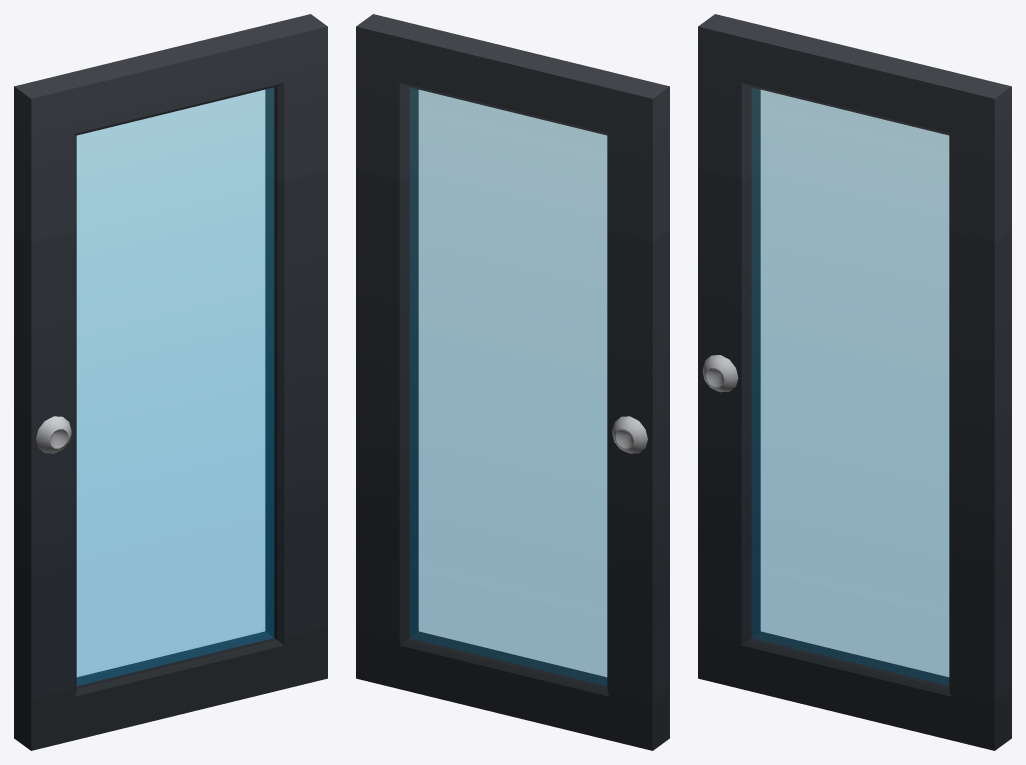
File: Door_Black_05.glb
The picture shows the model from 3 angles, left to right: view 1: azimuth 30°, elevation 25°; view 2: azimuth 150°, elevation 25°; view 3: azimuth 330°, elevation 25°; orthographic projection.
Parts seen in each view (by area): view 1: Door_Black_05; view 2: Door_Black_05; view 3: Door_Black_05.
Part boxes in pixels (x1,y1,x2,y2): Door_Black_05: (14,14,327,750); Door_Black_05: (356,14,669,750); Door_Black_05: (698,14,1011,750).
Bounding box in the file's own units: 1 × 2.1 × 0.1634.
Materials: 2 (2 with a texture image).
